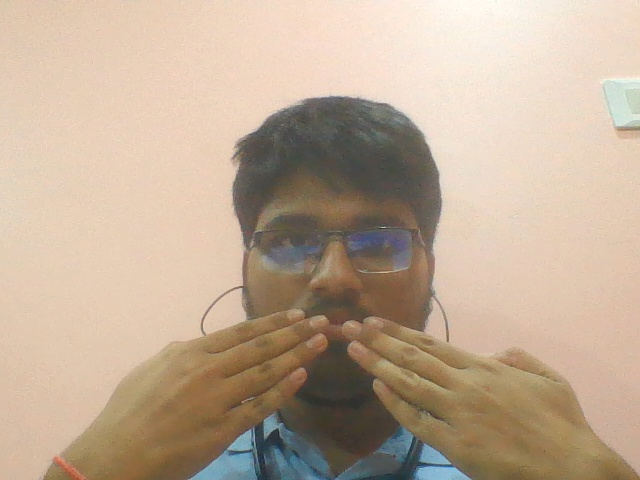thankyou: (86, 302, 613, 480)
